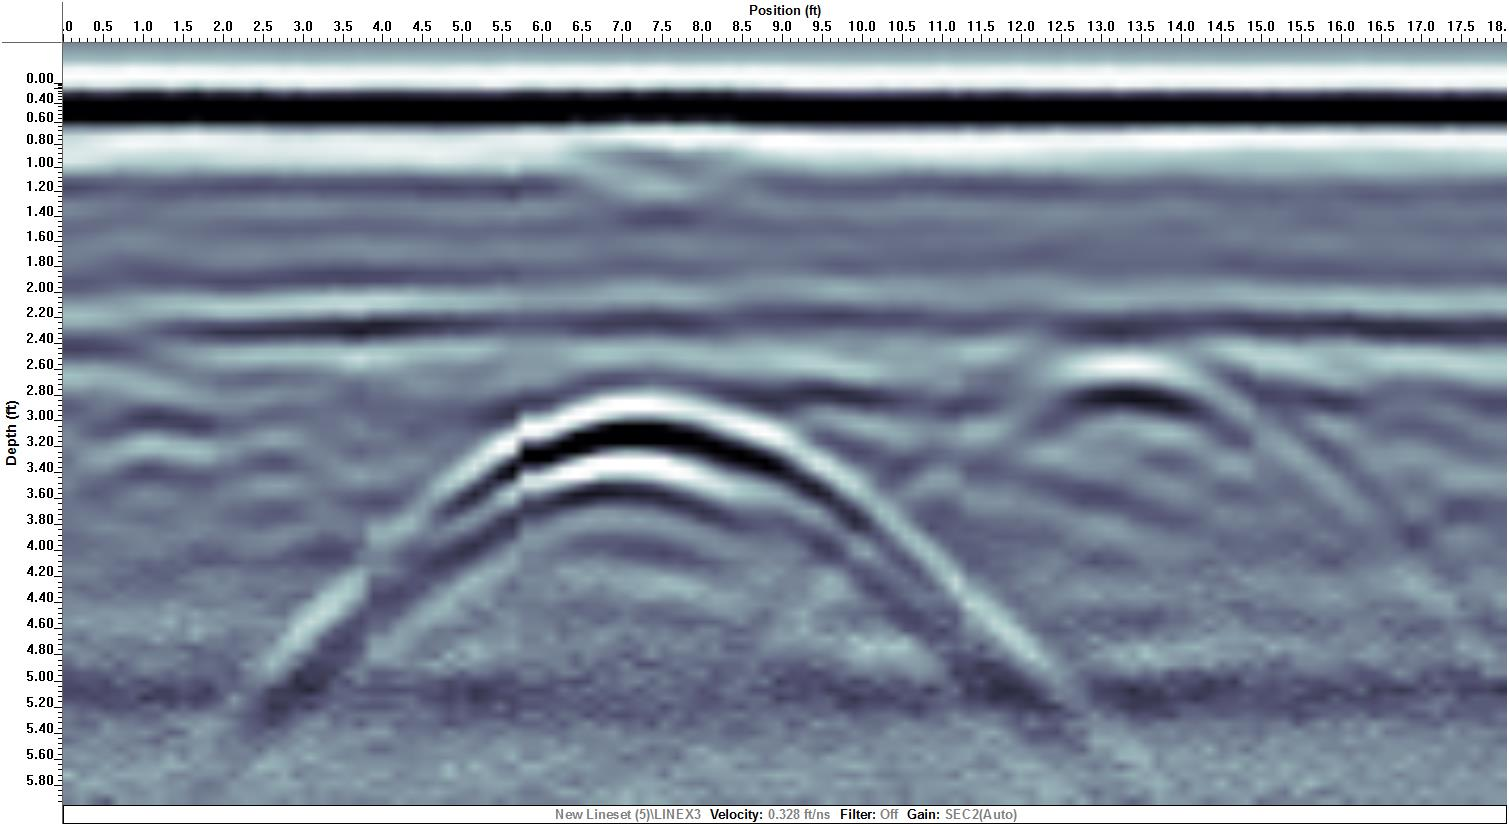hyperbola: (265, 378, 1073, 685), (865, 330, 1353, 546)
